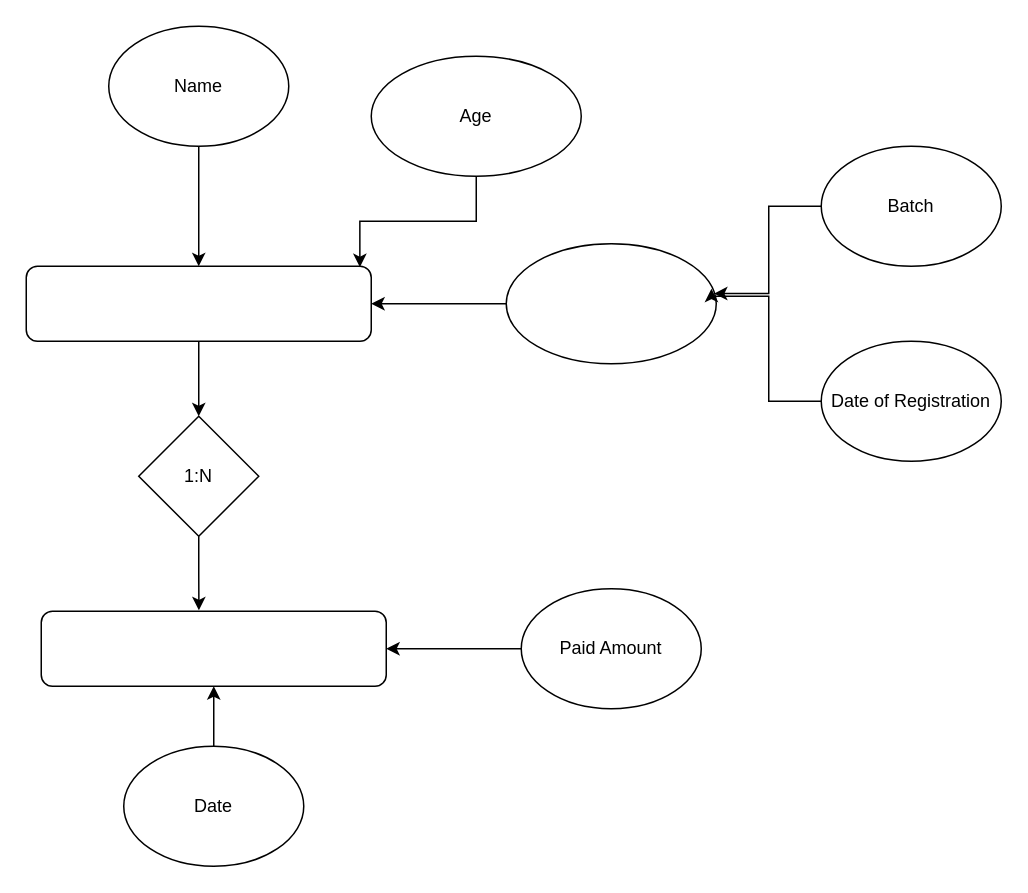
This 1028x893 diagram has some shape labels left out. Each missing label, with the box of its shape:
Payments: (40, 610, 386, 686)
User: (25, 265, 371, 341)
YogaClass: (505, 242, 716, 364)
